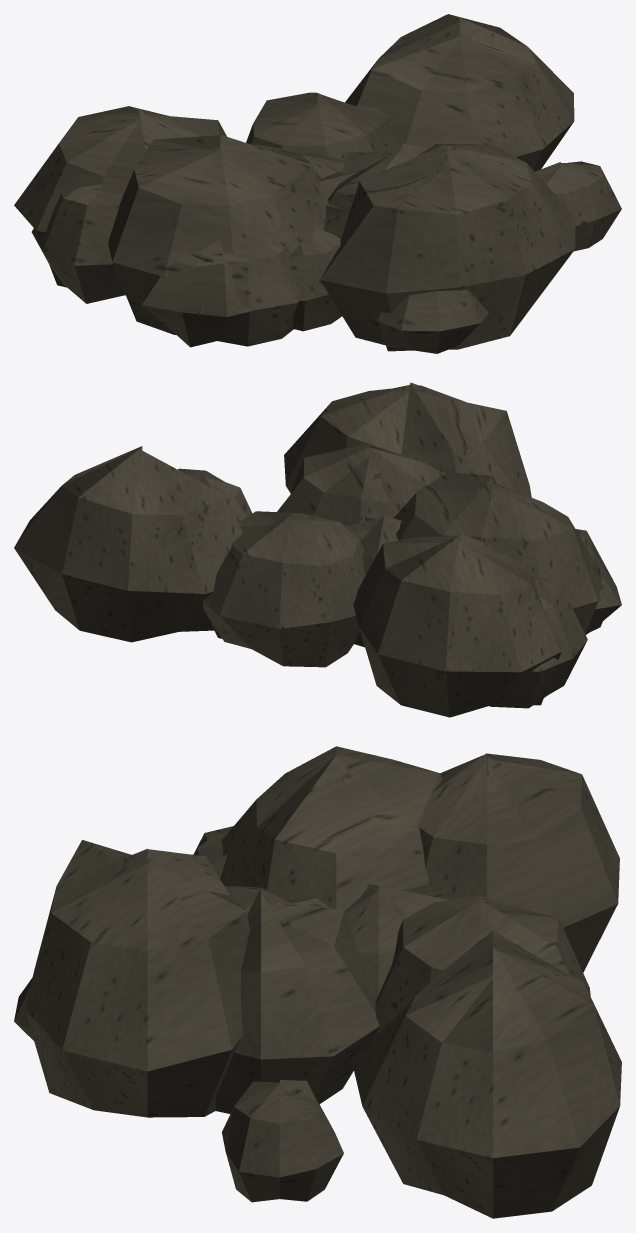
Rendered from PROP-10F3F5166282_lod1.glb.
3 renders of one model, top to bottom at view 1: azimuth 30°, elevation 25°; view 2: azimuth 150°, elevation 25°; view 3: azimuth 270°, elevation 25°, orthographic. The views are drawn at different scales.
Parts seen in each view (by area): view 1: rock.004; view 2: rock.004; view 3: rock.004.
Boxes of the visible parts, bbox=[...] form: rock.004: bbox=[14, 14, 621, 353]; rock.004: bbox=[14, 382, 621, 717]; rock.004: bbox=[14, 746, 621, 1218].
Size of the model in its own units: 1.52 by 0.4589 by 1.11.
1 material, 1 textured.
